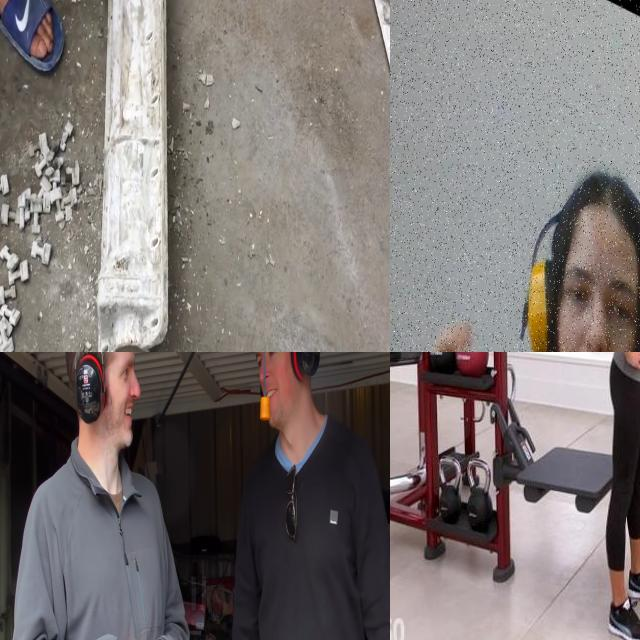Ear-protection: (510, 120, 640, 352), (61, 352, 145, 452), (253, 352, 322, 428)
No_Glasses: (109, 352, 142, 388), (249, 352, 283, 382)
Sandals: (0, 0, 64, 70)
hand_noglove: (615, 352, 640, 378)
